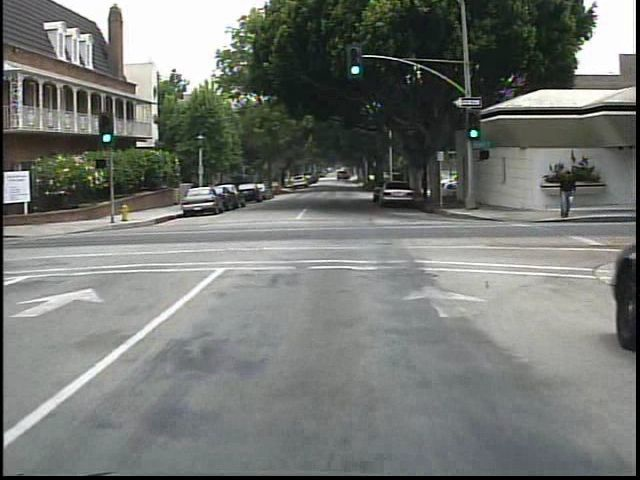person: (551, 167, 579, 220)
